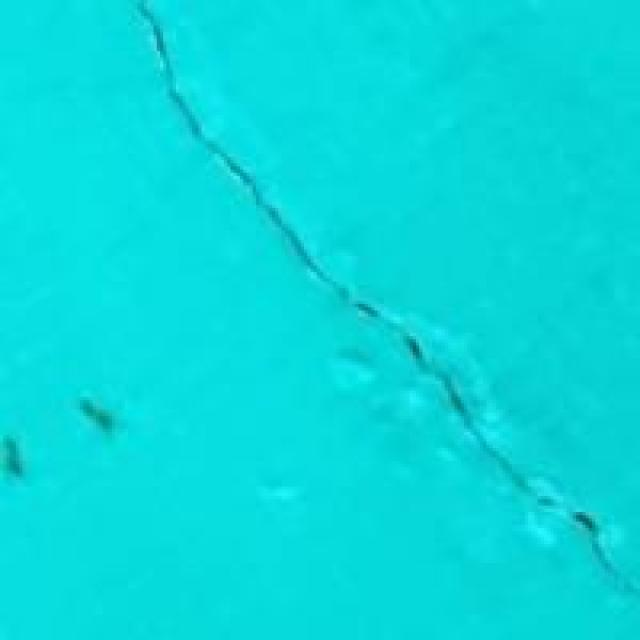Crack: (148, 8, 610, 533)
